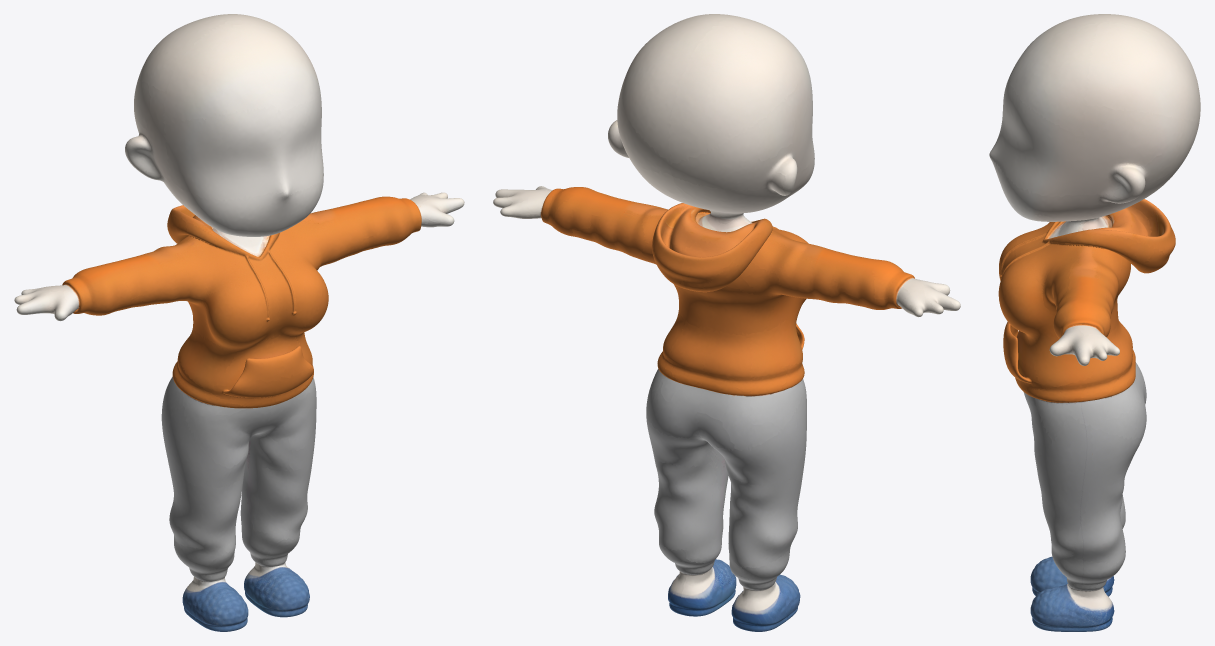
The model's file is baked_outfit_orangehoodie.glb.
3 views of the same model, side by side, from view 1: azimuth 30°, elevation 25°; view 2: azimuth 150°, elevation 25°; view 3: azimuth 270°, elevation 25° (orthographic). The views are drawn at different scales.
Size of the model in its own units: 1.54 by 1.9 by 0.6221.
1 material, 1 textured.
